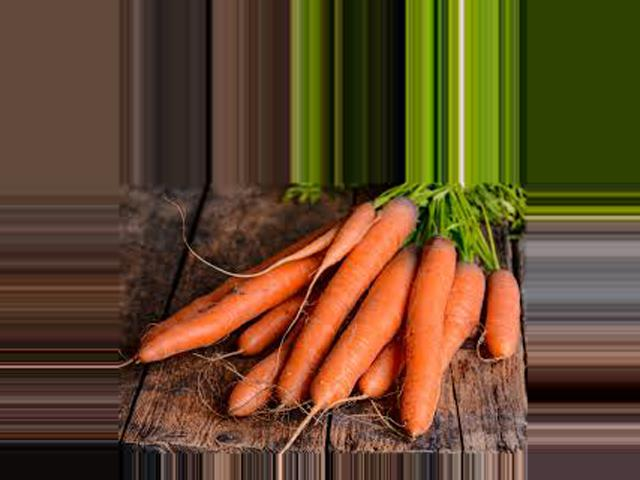carrot: (142, 256, 318, 370)
